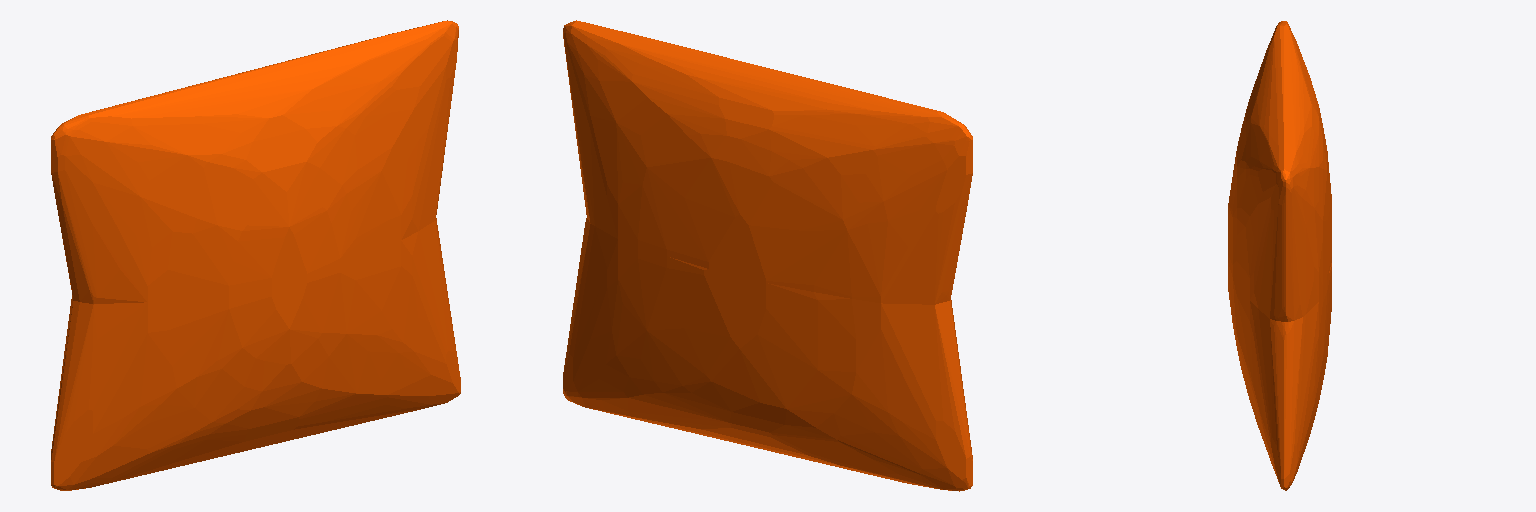
The robot description file, URDF, robot "Pillow":
<?xml version="1.0" ?>
<robot name="Pillow">
   <material name="obj_color">
      <color rgba="1.0 0.423529411765 0.0392156862745 1.0"/>
   </material>
   <link name="top">
      <inertial>
         <origin rpy="0.003845086414951927 0.003929841666936013 0.007331076813613587" xyz="-0.0003334723575237193 0.001611387559448049 -0.0003357063671243516"/>
         <mass value="1.868234609737049"/>
         <inertia ixx="0.003854942438480146" ixy="-5.435741846776382e-06" ixz="-2.718541763150383e-05" iyy="0.007330991361743112" iyz="1.615831536740874e-05" izz="0.003920071095278269"/>
      </inertial>
      <visual>
         <origin rpy="0 0 0" xyz="0 0 0"/>
         <geometry>
            <mesh filename="top_watertight_tiny.obj" scale="1 1 1"/>
         </geometry>
         <material name="obj_color"/>
      </visual>
      <collision>
         <origin rpy="0 0 0" xyz="0 0 0"/>
         <geometry>
            <mesh filename="top_watertight_tiny.obj" scale="1 1 1"/>
         </geometry>
      </collision>
   </link>
</robot>

--- Render facts (derived) ---
Views: 3 orthographic renders of the robot side by side, from view 1: azimuth 30°, elevation 25°; view 2: azimuth 150°, elevation 25°; view 3: azimuth 270°, elevation 25°.
Model Pillow with 1 links and 0 joints (none), rooted at top, posed all joints at 0.
Visible links, largest first — view 1: top; view 2: top; view 3: top.
Boxes of the visible links, x1=… form: top: x1=51, y1=20, x2=460, y2=490; top: x1=563, y1=20, x2=972, y2=491; top: x1=1228, y1=21, x2=1331, y2=490.
Bounding box of the posed robot: 0.1932 × 0.0504 × 0.1722 m (x, y, z).
Meshes: 1 distinct files referenced, 1 mesh visuals loaded (1 OBJ).